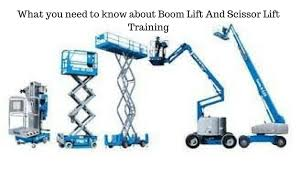Scissor Lift: (94, 31, 150, 151), (56, 48, 99, 151)
